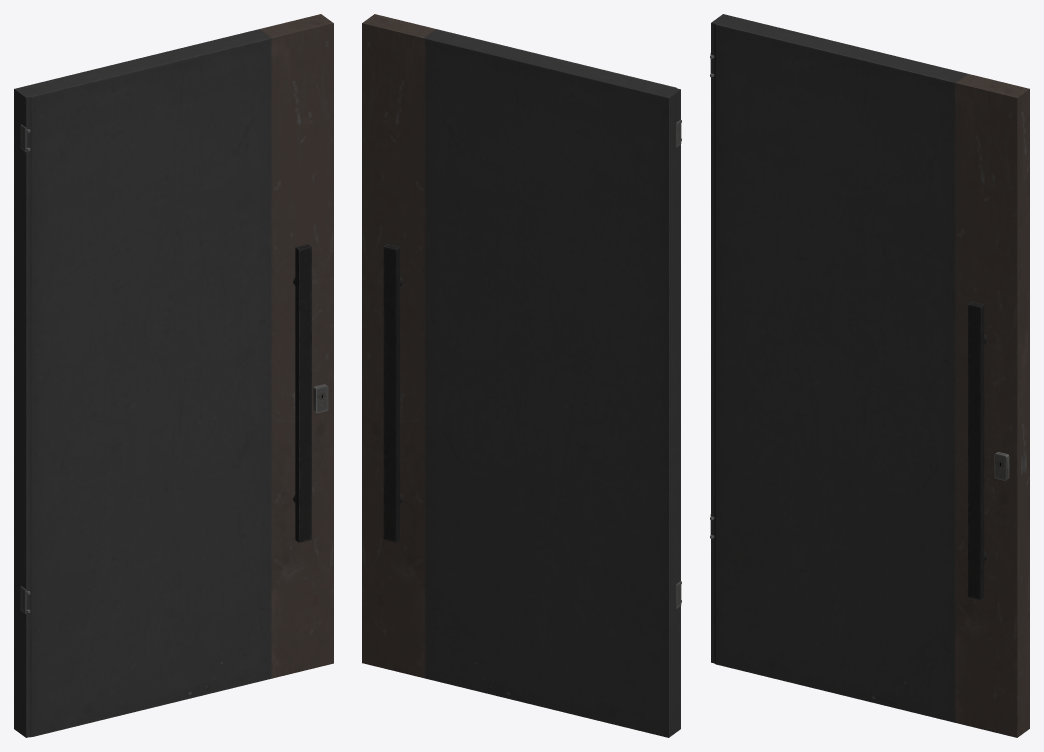
The model's file is SM_WoodenDoor1.fbx.
3 renders of one model, left to right at view 1: azimuth 30°, elevation 25°; view 2: azimuth 150°, elevation 25°; view 3: azimuth 330°, elevation 25°, orthographic.
Visible parts, largest first — view 1: SM_WoodenDoor1_LOD0; view 2: SM_WoodenDoor1_LOD0; view 3: SM_WoodenDoor1_LOD0.
Part boxes in pixels (x1=…): SM_WoodenDoor1_LOD0: x1=14, y1=14, x2=333, y2=737; SM_WoodenDoor1_LOD0: x1=362, y1=14, x2=681, y2=737; SM_WoodenDoor1_LOD0: x1=710, y1=14, x2=1029, y2=737.
Bounding box in the file's own units: 105 × 16.2 × 209.
